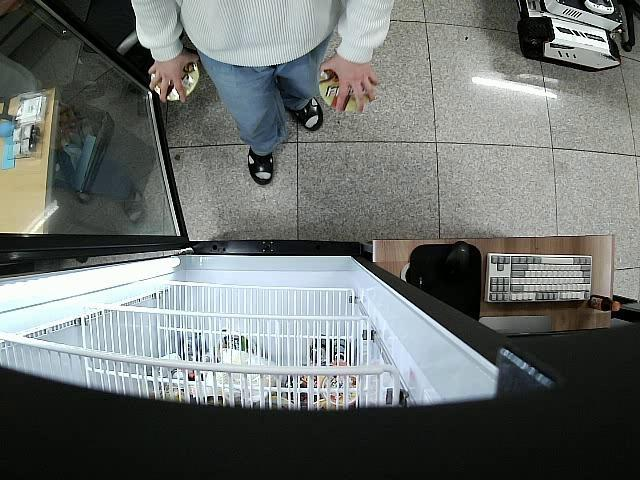03_chapagetti_L: (319, 67, 375, 112), (150, 62, 199, 102)
